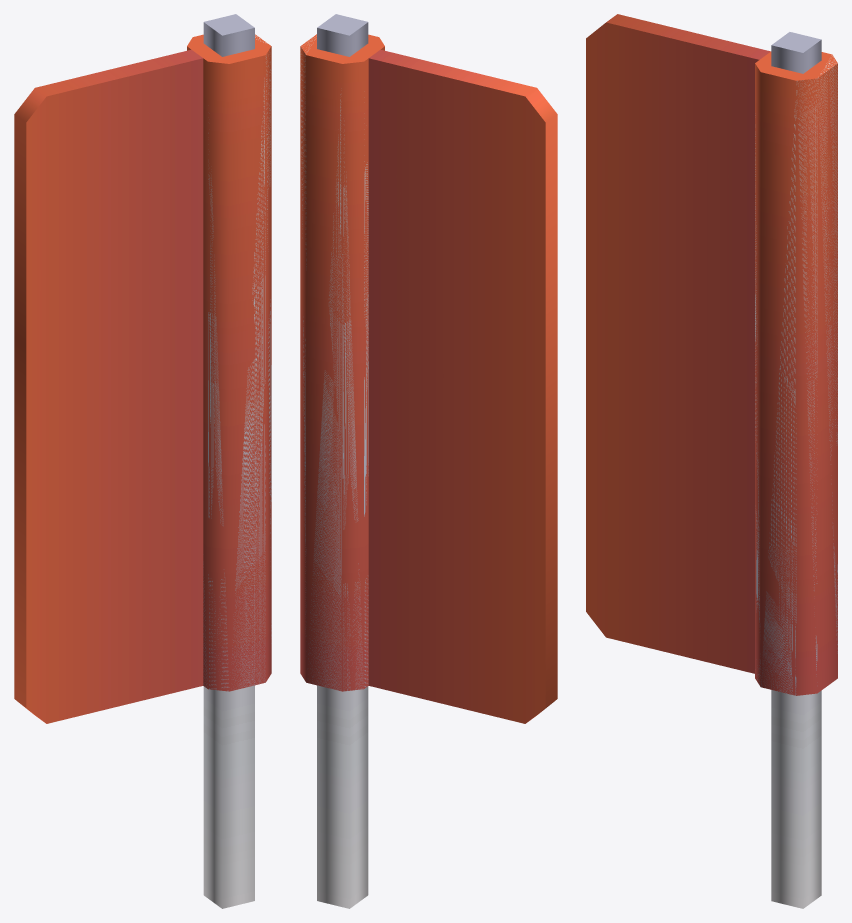
The model's file is flag-large-red.glb.
3 renders of one model, left to right at view 1: azimuth 30°, elevation 25°; view 2: azimuth 150°, elevation 25°; view 3: azimuth 330°, elevation 25°, orthographic. The views are drawn at different scales.
Parts seen in each view (by area): view 1: flag-large-red; view 2: flag-large-red; view 3: flag-large-red.
Boxes of the visible parts, bbox=[...] form: flag-large-red: bbox=[14, 14, 271, 908]; flag-large-red: bbox=[300, 14, 557, 908]; flag-large-red: bbox=[586, 14, 837, 908].
Bounding box in the file's own units: 0.2955 × 1.02 × 0.0781.
1 material, 1 textured.
